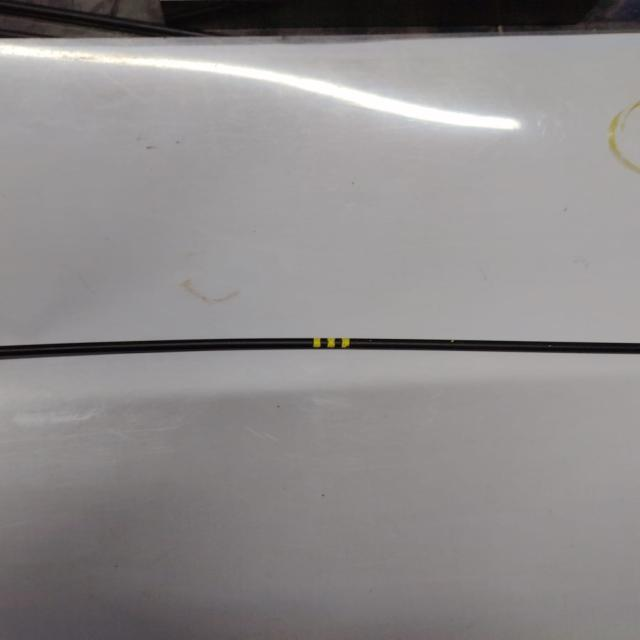yellow: (313, 338, 350, 348)
